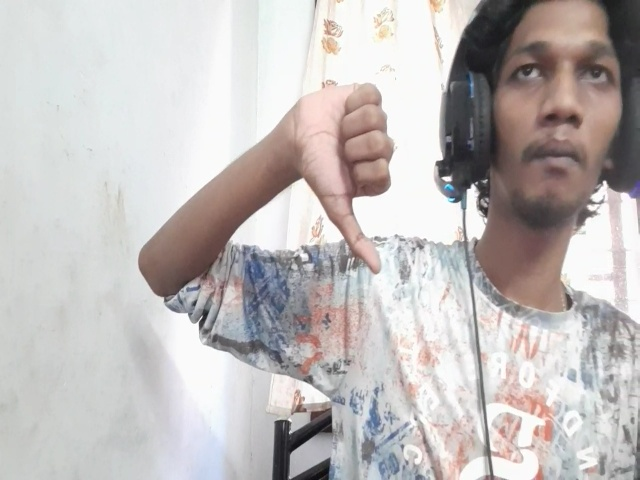ThumbsDown: (293, 82, 395, 274)
